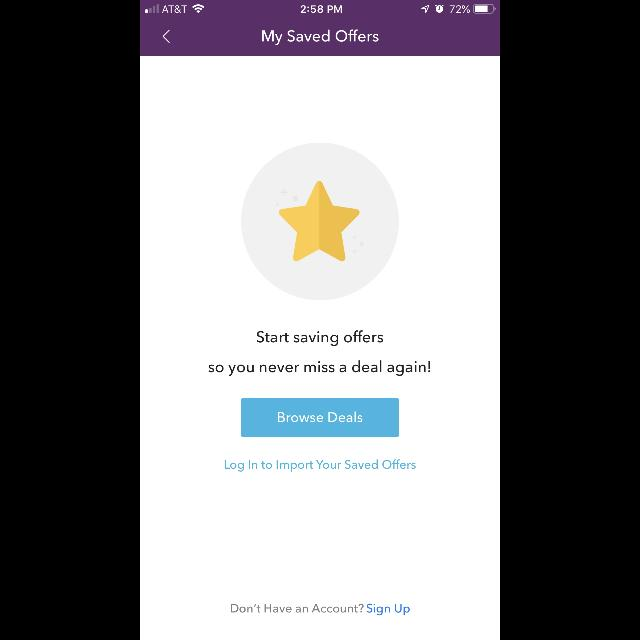icon: (242, 144, 398, 300), (162, 31, 170, 44)
text: (208, 330, 430, 376), (224, 460, 416, 472), (230, 603, 410, 615), (262, 30, 378, 46)
textbutton: (242, 398, 398, 438)
uppertaskbar: (140, 0, 500, 14)
